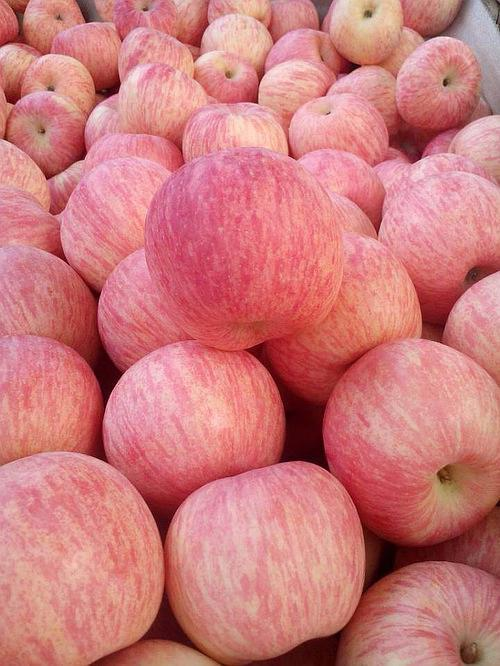apple: (142, 149, 347, 351), (161, 459, 366, 660), (317, 336, 500, 541), (1, 449, 165, 661), (97, 339, 290, 507), (269, 235, 424, 406), (379, 170, 496, 327), (338, 560, 497, 663), (58, 155, 175, 288), (3, 331, 100, 457), (3, 238, 99, 359), (398, 31, 481, 133), (289, 92, 390, 172), (117, 62, 205, 138), (322, 1, 404, 68), (190, 50, 258, 105)
